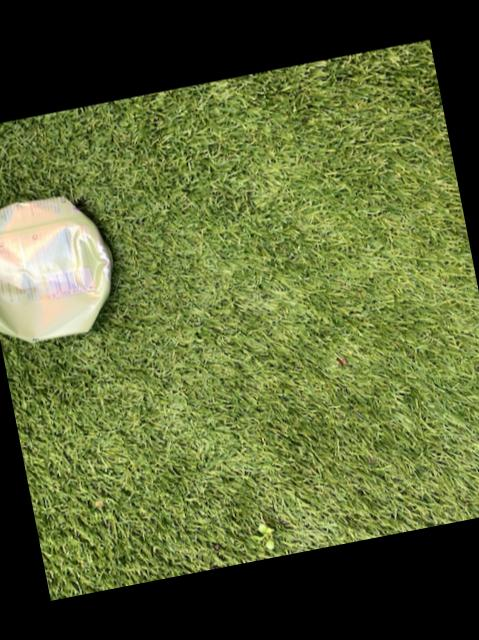metal: (0, 196, 108, 340)
